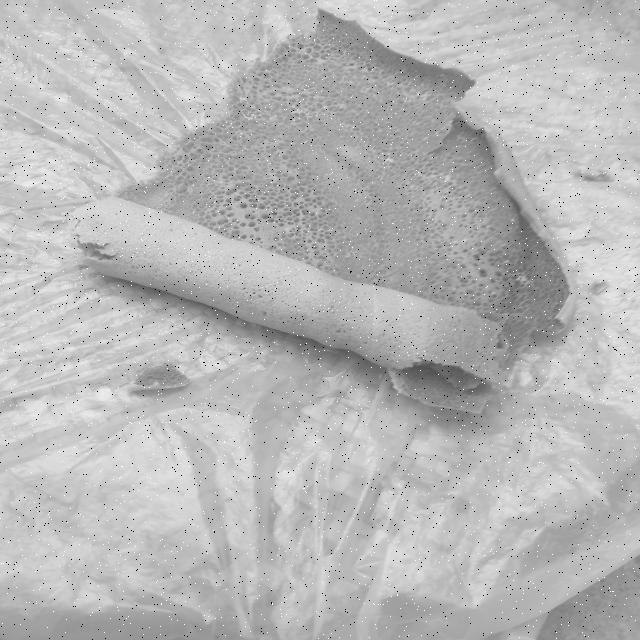injera_mold: (428, 170, 461, 187), (397, 88, 432, 102), (289, 104, 318, 120), (514, 271, 534, 288), (240, 109, 265, 121), (285, 226, 305, 238), (417, 154, 437, 164), (374, 94, 388, 104), (318, 227, 334, 235), (235, 96, 249, 105), (439, 74, 448, 87), (346, 58, 357, 68), (147, 208, 162, 214), (445, 105, 456, 113), (364, 64, 374, 72), (346, 252, 359, 258), (407, 187, 416, 194), (409, 80, 419, 86), (302, 47, 310, 54), (386, 157, 395, 163), (385, 74, 394, 80), (460, 239, 469, 244), (429, 85, 438, 90), (384, 82, 395, 86), (473, 136, 481, 141), (376, 175, 384, 180), (511, 218, 517, 224)
